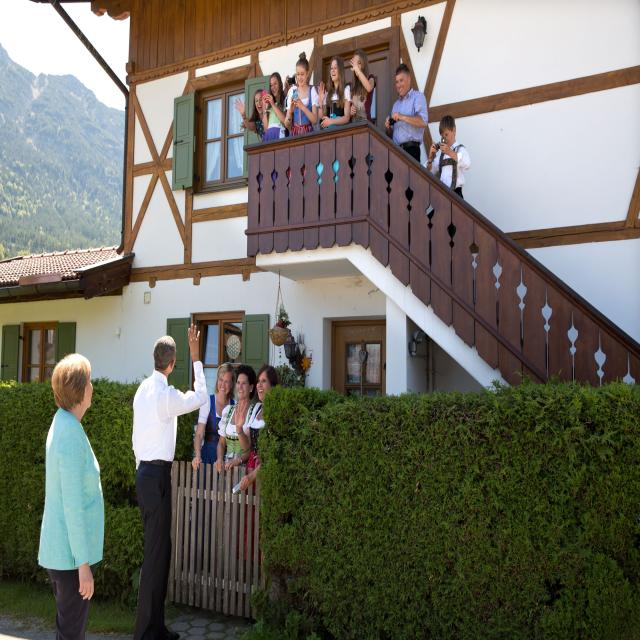body: (129, 318, 210, 640), (32, 348, 110, 640), (190, 360, 240, 576), (213, 364, 257, 608), (231, 362, 279, 564), (426, 115, 471, 286), (284, 51, 320, 189), (384, 62, 429, 166), (316, 55, 352, 129), (344, 48, 377, 125), (260, 72, 286, 141), (278, 70, 304, 138), (233, 88, 264, 140)
